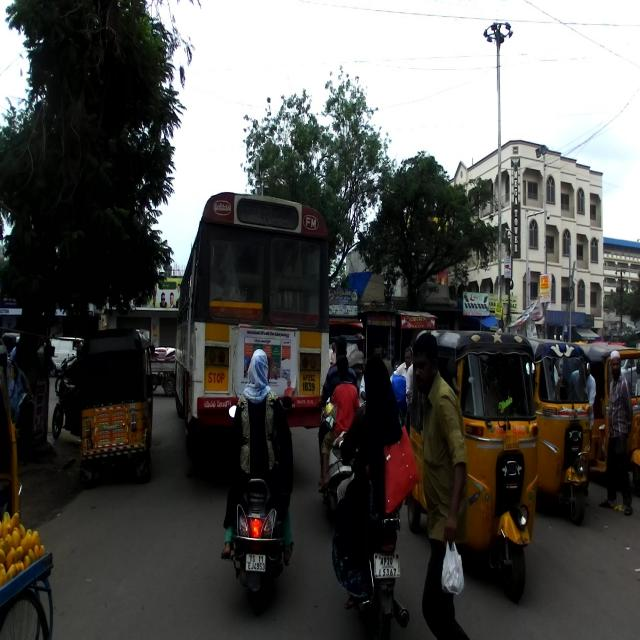autorickshaw: (406, 328, 539, 606), (525, 338, 592, 530), (78, 325, 155, 488), (577, 342, 639, 492)
bus: (173, 189, 330, 453)
motorcycle: (331, 438, 411, 639)
scooter: (228, 396, 294, 601)
